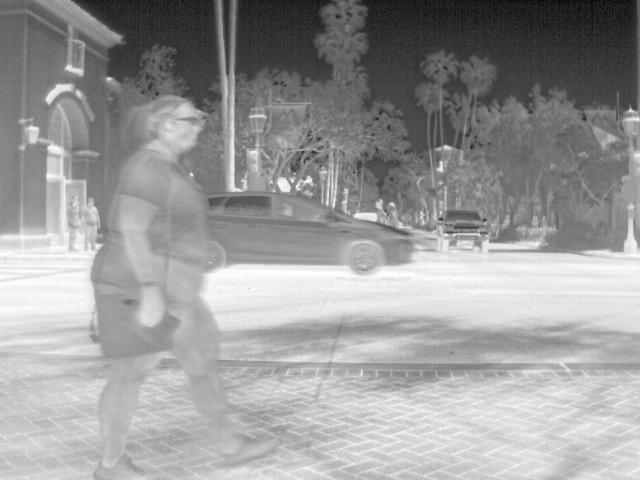car: (207, 192, 414, 278), (437, 209, 493, 255)
person: (91, 94, 282, 478), (66, 195, 85, 251), (82, 196, 101, 247), (386, 200, 405, 230), (374, 198, 388, 225), (501, 212, 513, 229), (538, 214, 550, 228)
